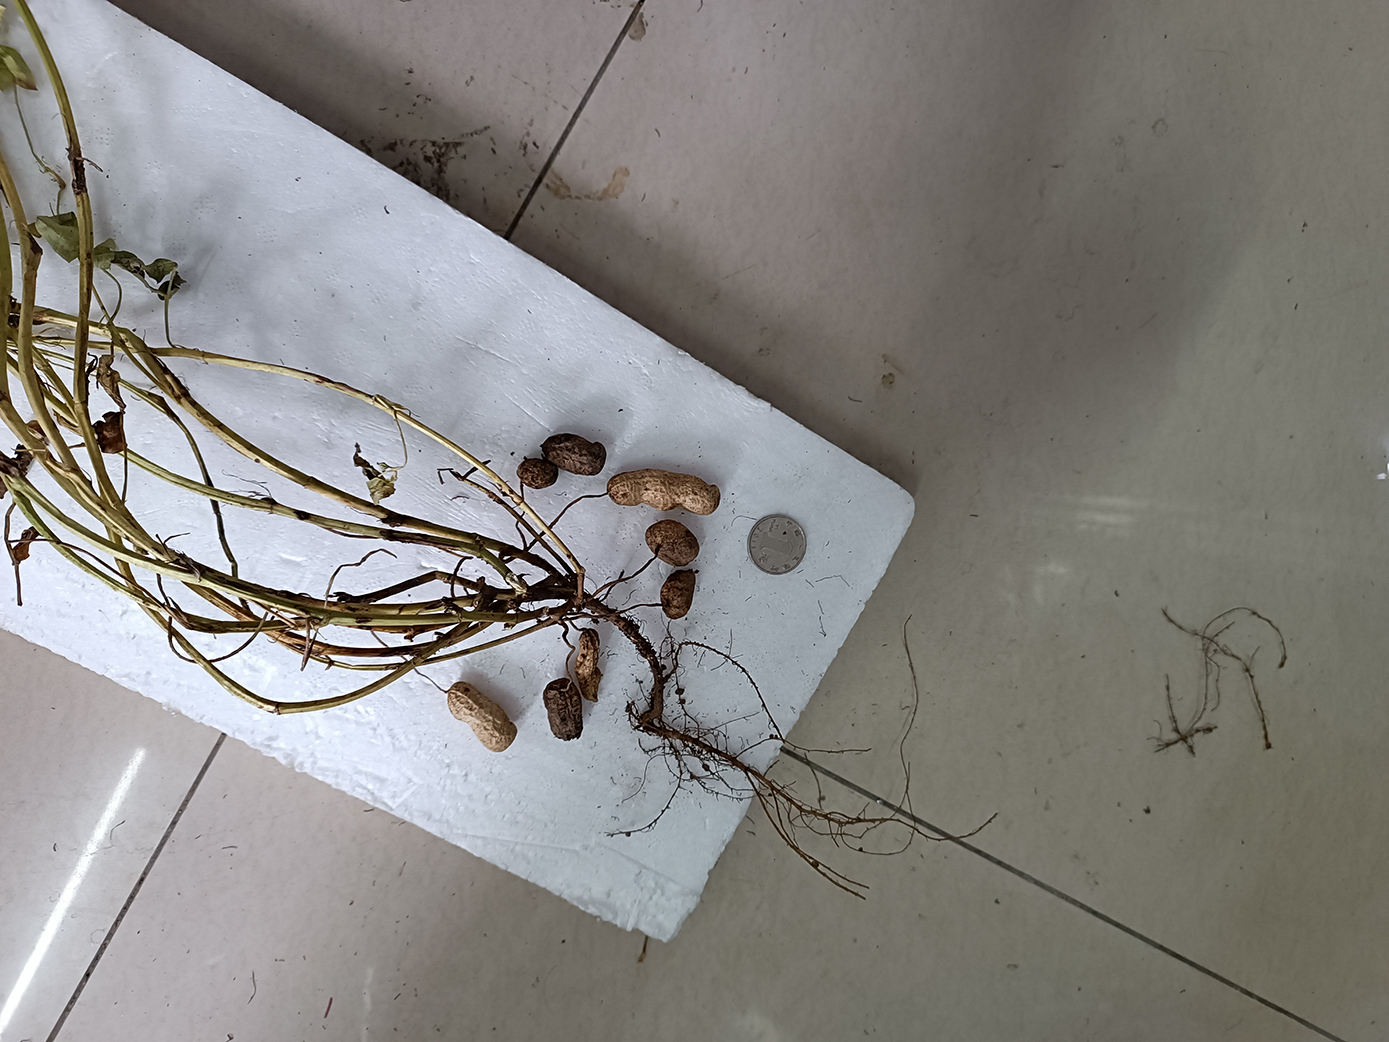h: (607, 467, 721, 516), (447, 683, 518, 752)
l: (541, 432, 606, 475), (645, 519, 701, 566), (543, 679, 586, 740), (577, 630, 604, 704), (659, 570, 695, 618), (517, 458, 560, 488)
